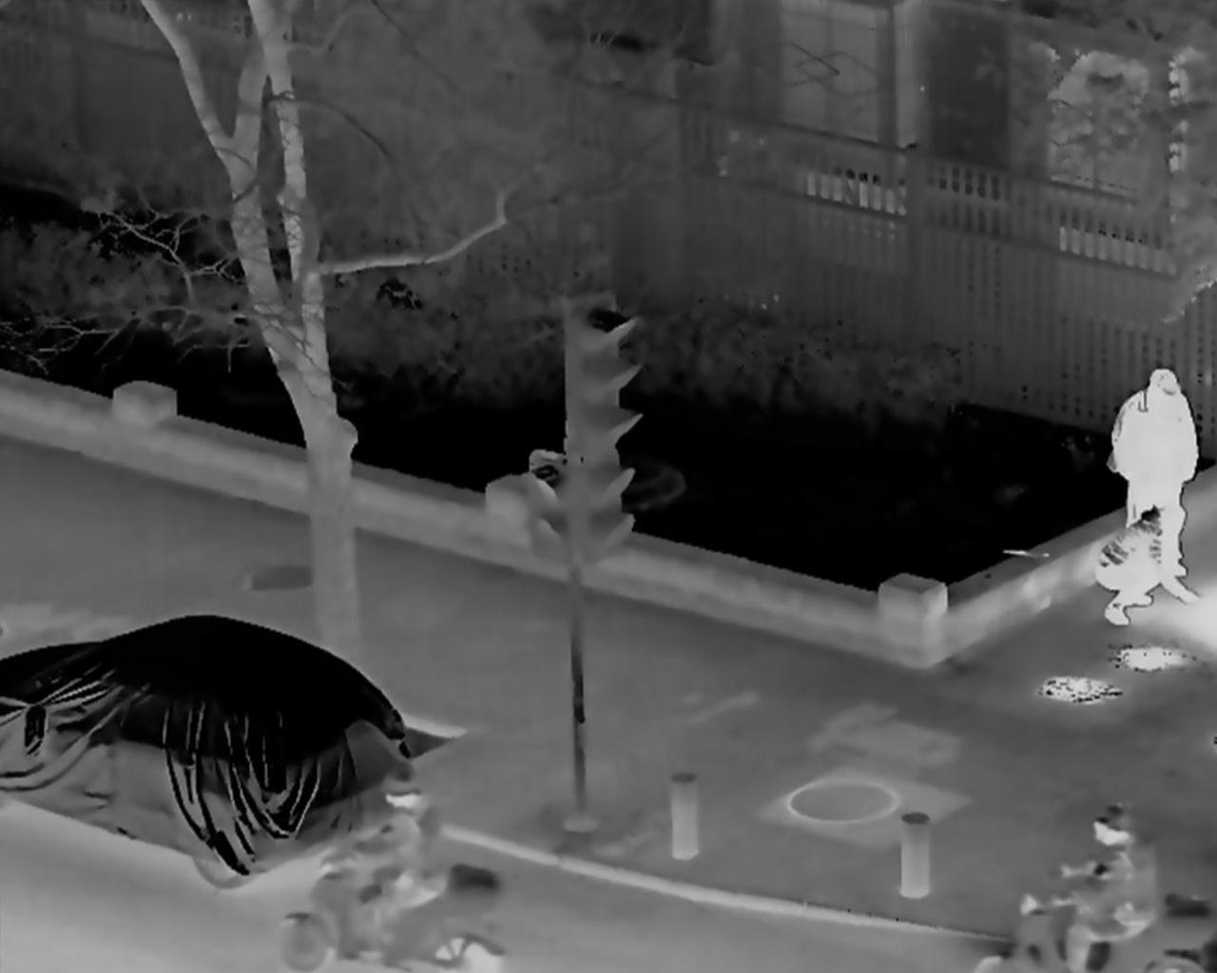person: (330, 773, 454, 965), (1031, 800, 1153, 973), (1104, 371, 1192, 576), (1093, 500, 1182, 623)
